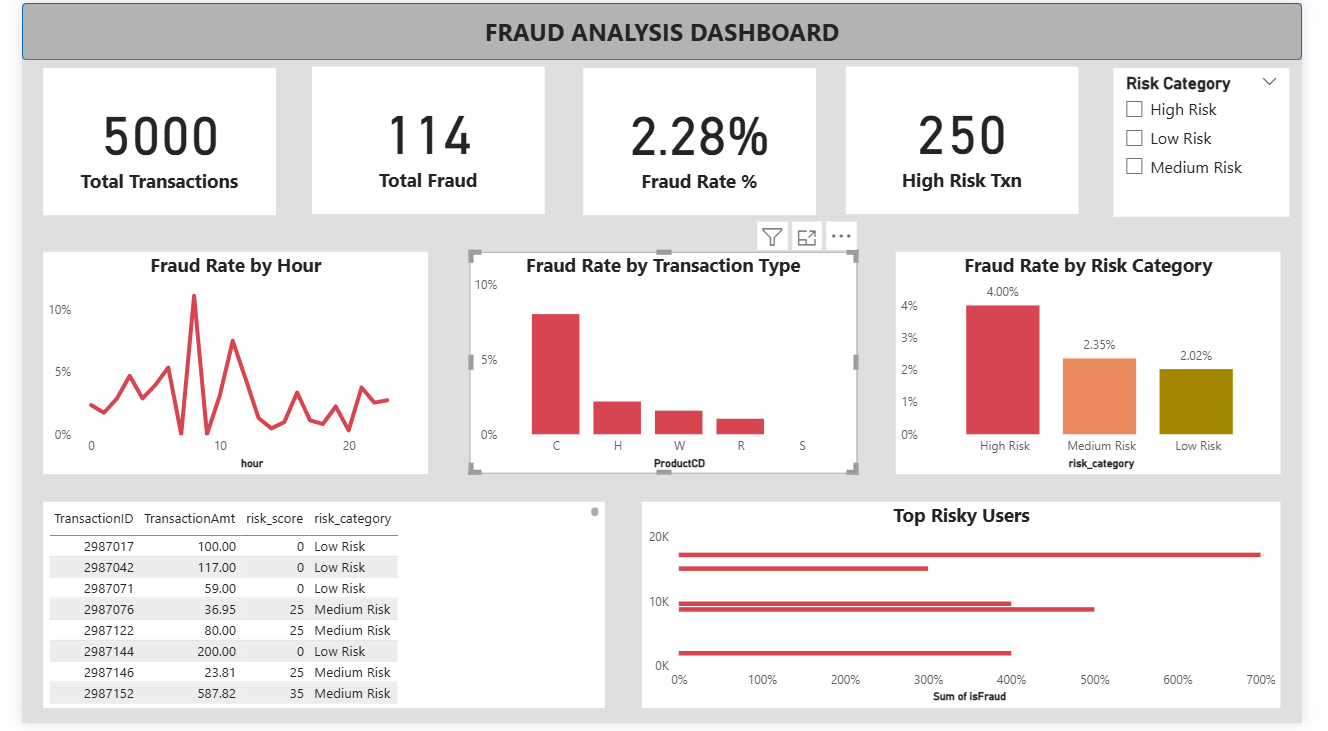

This screenshot's page, from the dashboard's own definition file:
{"tool":"powerbi","page":{"name":"Page 1","canvas":[1280,720],"ordinal":0},"visuals":[{"type":"shape","box":[0,0,1280,57],"z":0},{"type":"textbox","box":[0,7.5,1280,42.5],"z":1000},{"type":"card","fields":{"Values":["fraud_analysis_final.Total Transactions"]},"box":[21.2,65,232.5,147.5],"z":2000},{"type":"card","fields":{"Values":["fraud_analysis_final.Total Fraud"]},"box":[290,63.8,232.5,147.5],"z":3000},{"type":"card","fields":{"Values":["fraud_analysis_final.Fraud Rate %"]},"box":[561.2,65,232.5,147.5],"z":4000},{"type":"lineChart","title":"Fraud Rate by Hour","fields":{"Category":["fraud_analysis_final.hour"],"Y":["Avg(fraud_analysis_final.isFraud)"]},"box":[21.2,248.8,385,222.5],"z":5000},{"type":"clusteredColumnChart","title":"Fraud Rate by Transaction Type","fields":{"Category":["fraud_analysis_final.ProductCD"],"Y":["Avg(fraud_analysis_final.isFraud)"]},"box":[447.5,248.8,387.5,222.5],"z":5001},{"type":"clusteredColumnChart","title":"Fraud Rate by Risk Category","fields":{"Y":["Avg(fraud_analysis_final.isFraud)"],"Category":["fraud_analysis_final.risk_category"]},"box":[873.8,248.8,385,222.5],"z":5002},{"type":"tableEx","fields":{"Values":["fraud_analysis_final.TransactionID","fraud_analysis_final.TransactionAmt","fraud_analysis_final.risk_score","fraud_analysis_final.risk_category"]},"box":[21.2,498.8,561.2,206.2],"z":5003},{"type":"slicer","fields":{"Values":["fraud_analysis_final.risk_category"]},"box":[1091.2,65,176.2,148.8],"z":5004},{"type":"card","fields":{"Values":["fraud_analysis_final.High Risk Txn"]},"box":[823.8,63.8,232.5,147.5],"z":5005},{"type":"clusteredBarChart","title":"Top Risky Users","fields":{"Category":["fraud_analysis_final.card1"],"Y":["Sum(fraud_analysis_final.isFraud)"]},"box":[620,498.8,638.8,206.2],"z":5006}]}

Visuals, with their boxes in screenshot pixels (x1, y1, x2, y2), scaled from the page's 1280x720 canvas onto the 1328x731 screenshot:
shape: box(0, 0, 1327, 58)
textbox: box(0, 8, 1327, 51)
card - fraud_analysis_final.Total Transactions: box(22, 66, 263, 216)
card - fraud_analysis_final.Total Fraud: box(301, 65, 542, 215)
card - fraud_analysis_final.Fraud Rate %: box(582, 66, 823, 216)
"Fraud Rate by Hour" lineChart: box(22, 253, 421, 479)
"Fraud Rate by Transaction Type" clusteredColumnChart: box(464, 253, 866, 479)
"Fraud Rate by Risk Category" clusteredColumnChart: box(907, 253, 1306, 479)
tableEx - fraud_analysis_final.TransactionID x fraud_analysis_final.TransactionAmt: box(22, 506, 604, 716)
slicer - fraud_analysis_final.risk_category: box(1132, 66, 1315, 217)
card - fraud_analysis_final.High Risk Txn: box(855, 65, 1096, 215)
"Top Risky Users" clusteredBarChart: box(643, 506, 1306, 716)
